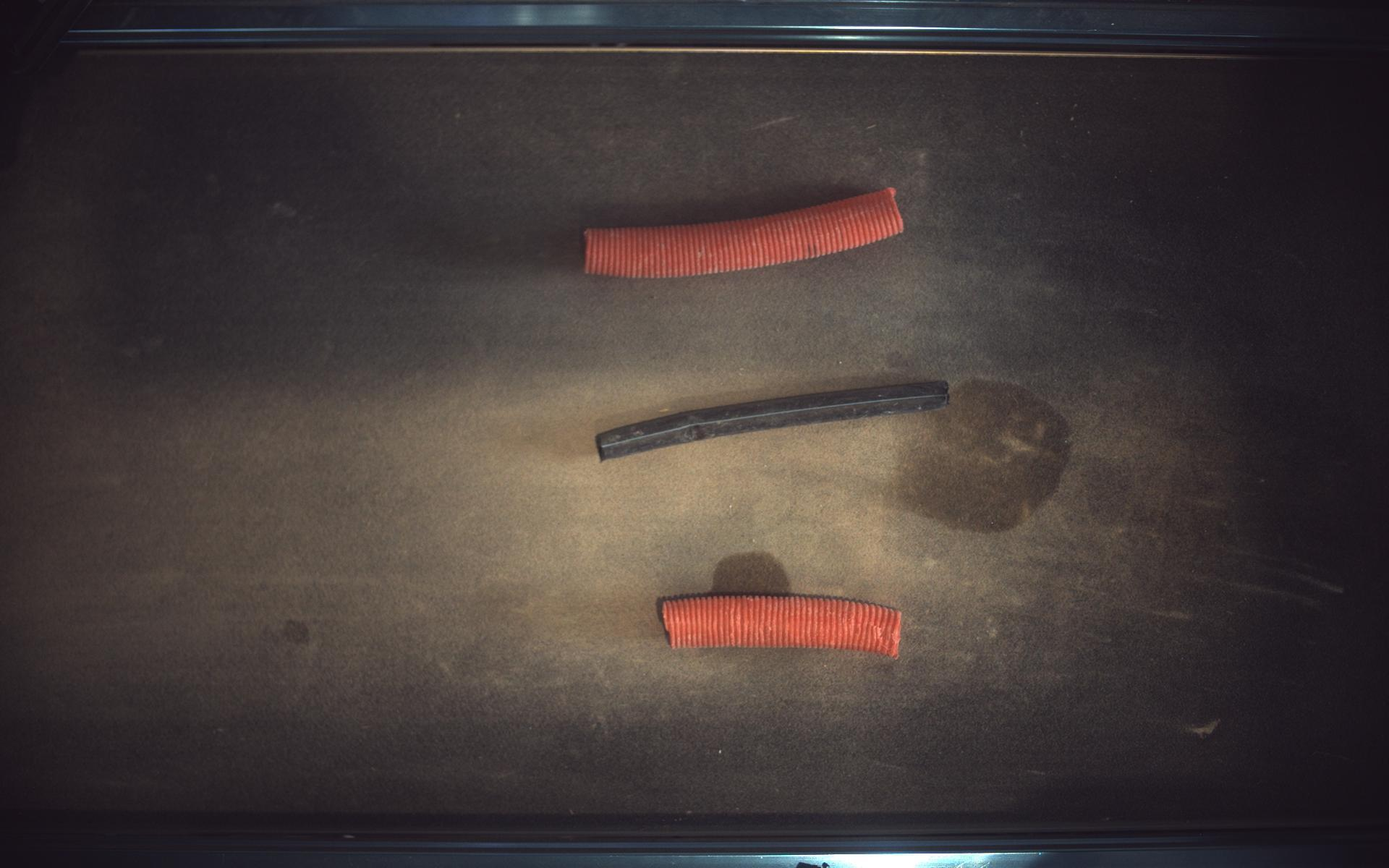pipes: (585, 187, 906, 277), (596, 380, 951, 461), (662, 595, 903, 658)
